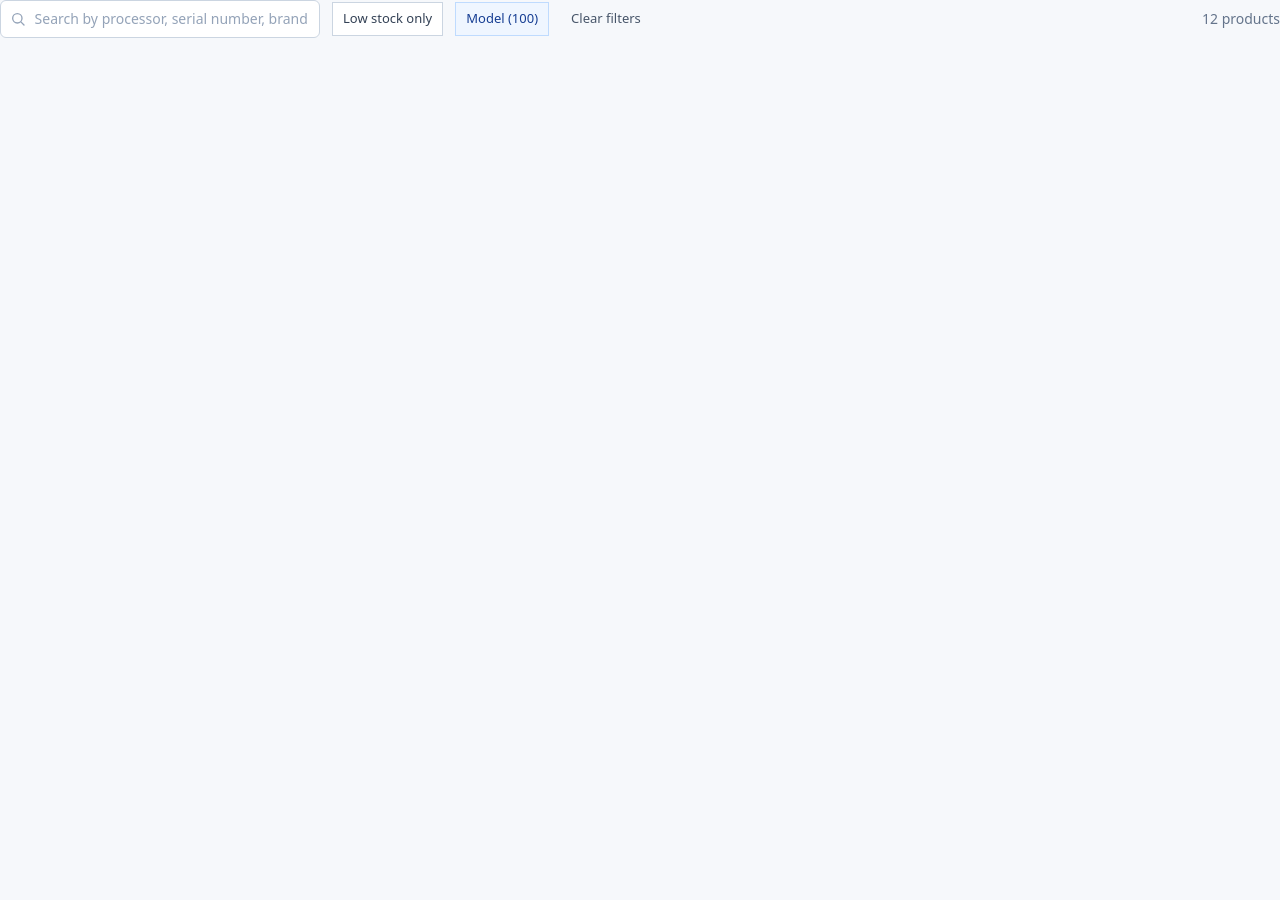
Inventory filters › prevents selecting more than 100 models and explains the limit
Click the button "Model (100)" at (502, 19), box [455,2,549,36]
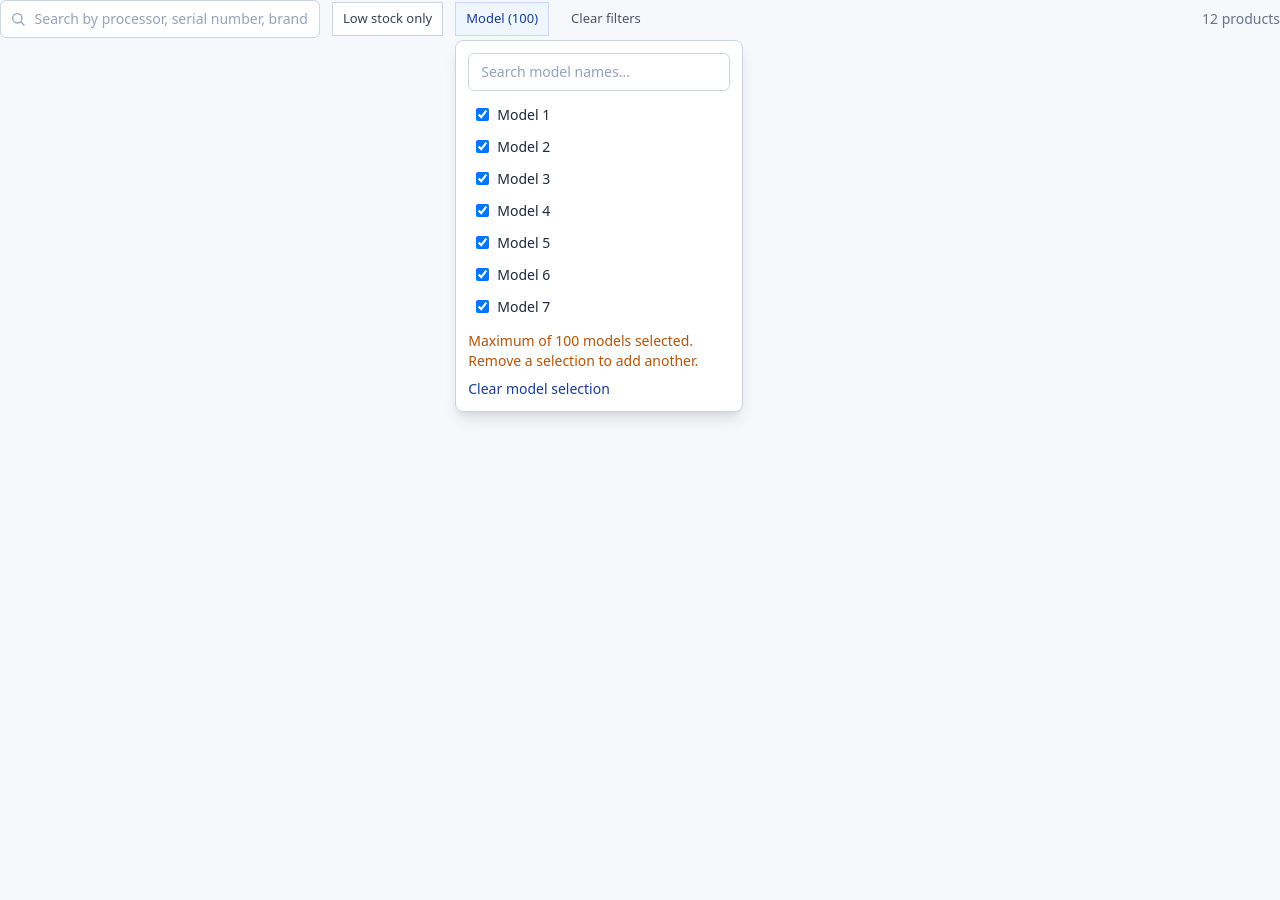
Expected: the message "Maximum of 100 models selected. Remove a selection to add another." is shown, [468,331,730,371]
Expected: the checkbox named "Model 1" is enabled, [476,108,489,121]
